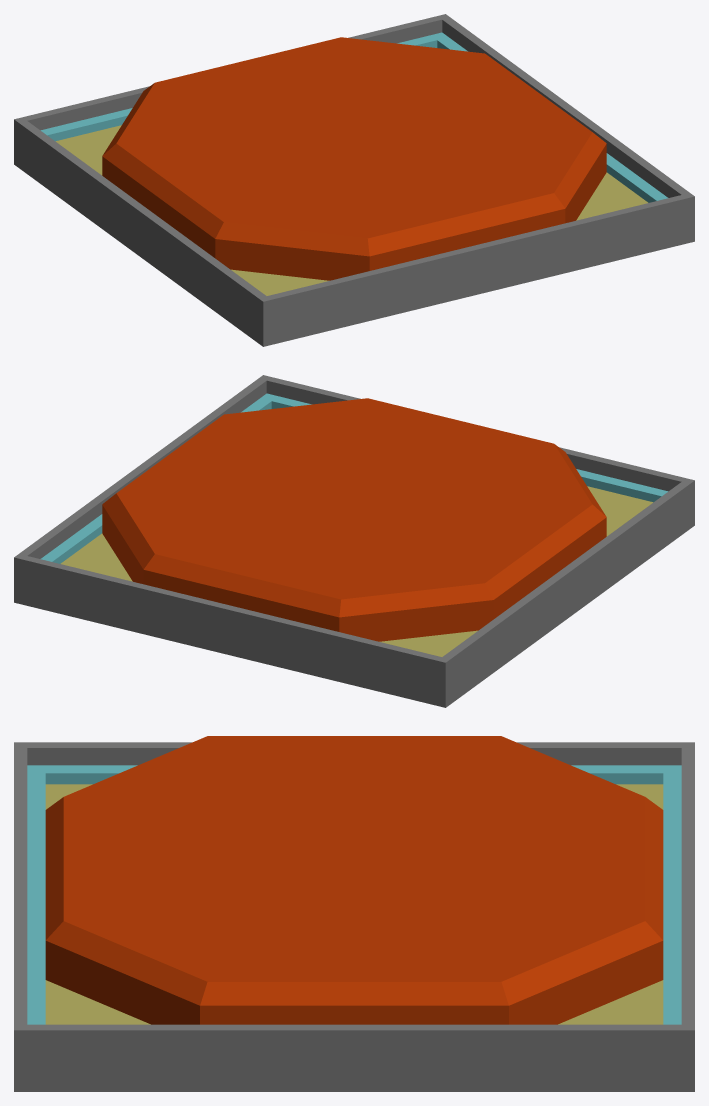
The model's file is Table.fbx.
3 views of the same model, one above another, from view 1: azimuth 30°, elevation 25°; view 2: azimuth 150°, elevation 25°; view 3: azimuth 270°, elevation 25° (orthographic). The views are drawn at different scales.
Visible parts, largest first — view 1: polySurface4, polySurface3; view 2: polySurface4, polySurface3; view 3: polySurface4, polySurface3.
Boxes of the visible parts, bbox=[...] form: polySurface4: bbox=[102, 37, 606, 280]; polySurface3: bbox=[14, 14, 694, 346]; polySurface4: bbox=[102, 398, 606, 641]; polySurface3: bbox=[14, 375, 694, 707]; polySurface4: bbox=[45, 736, 663, 1024]; polySurface3: bbox=[14, 742, 694, 1091].
Size of the model in its own units: 2 by 0.2887 by 2.
